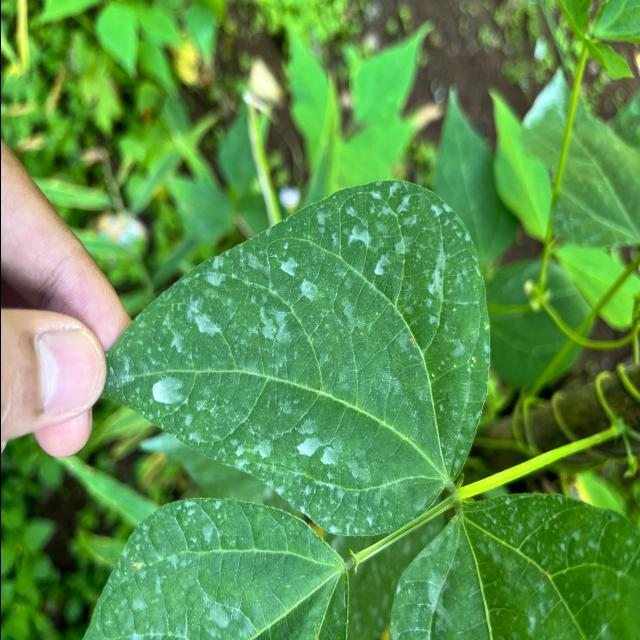embun tepung: (114, 177, 490, 412)
